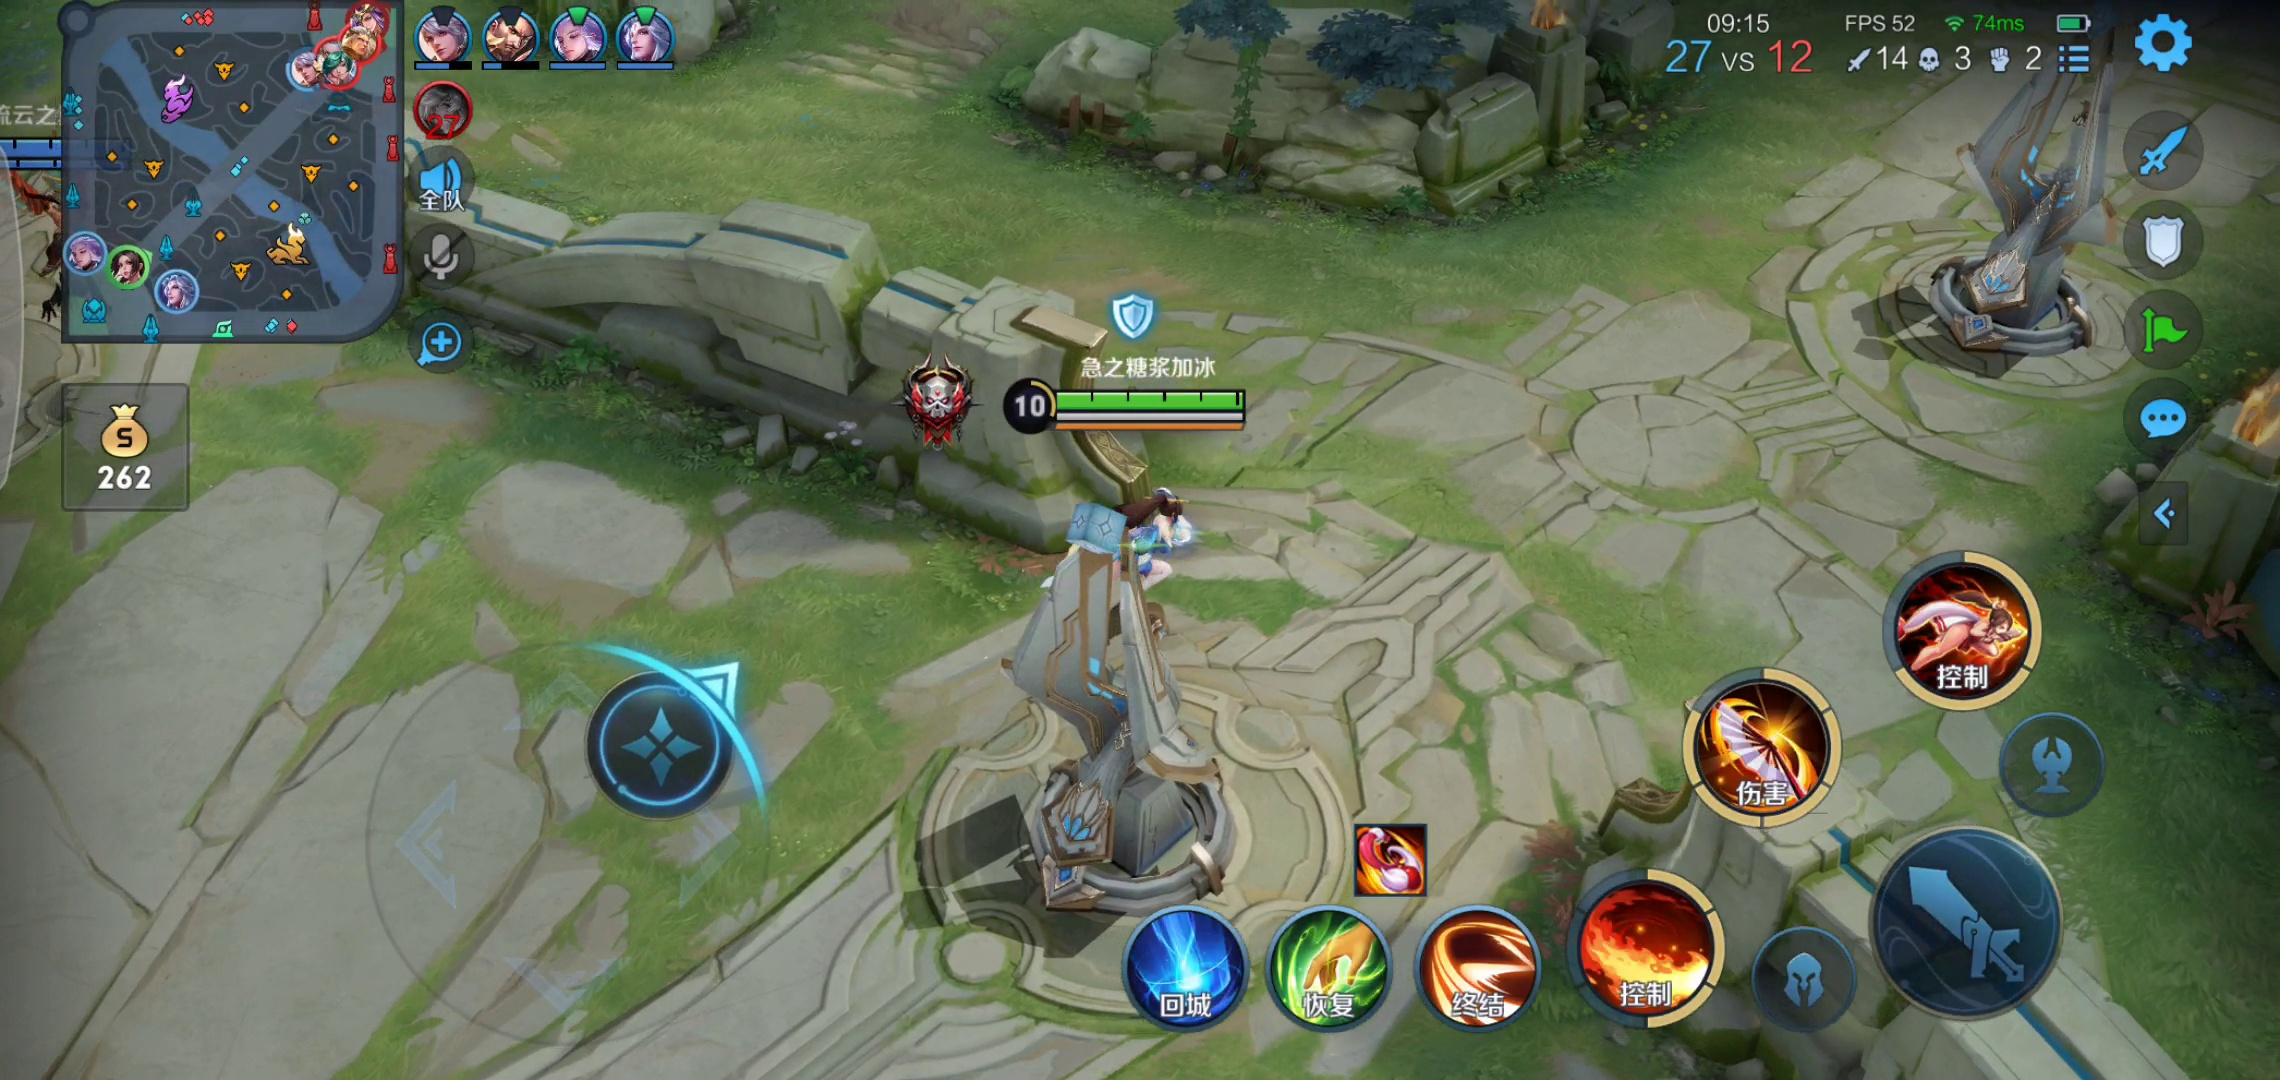hero: (9, 158, 95, 281), (1118, 493, 1188, 622)
tower: (1005, 497, 1264, 922), (1938, 19, 2133, 369)
